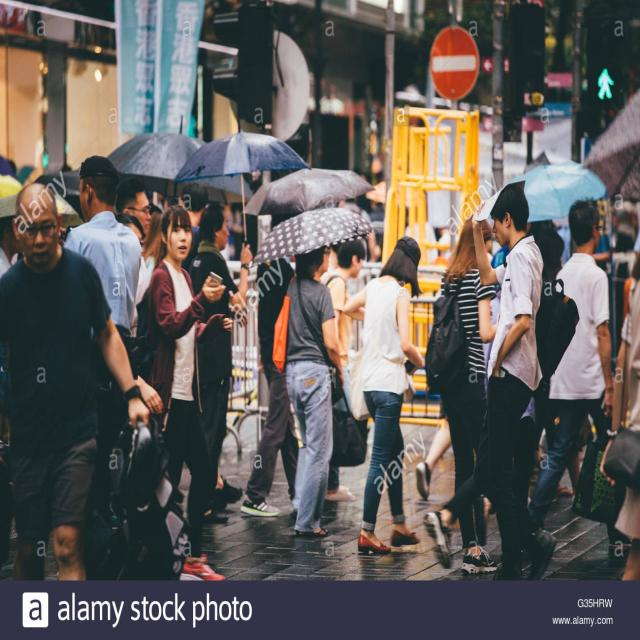body: (0, 174, 158, 639), (468, 180, 560, 582), (524, 195, 621, 561), (144, 203, 230, 583), (339, 232, 431, 550), (421, 214, 499, 576), (270, 245, 346, 540), (238, 200, 307, 520), (188, 201, 250, 527), (519, 200, 580, 525), (58, 151, 143, 340), (597, 259, 640, 582), (322, 238, 367, 502), (426, 470, 488, 566), (609, 200, 640, 339), (412, 416, 454, 505), (175, 180, 210, 276), (336, 160, 388, 223), (120, 212, 161, 279), (115, 177, 153, 239), (0, 208, 17, 271), (327, 246, 342, 272)
